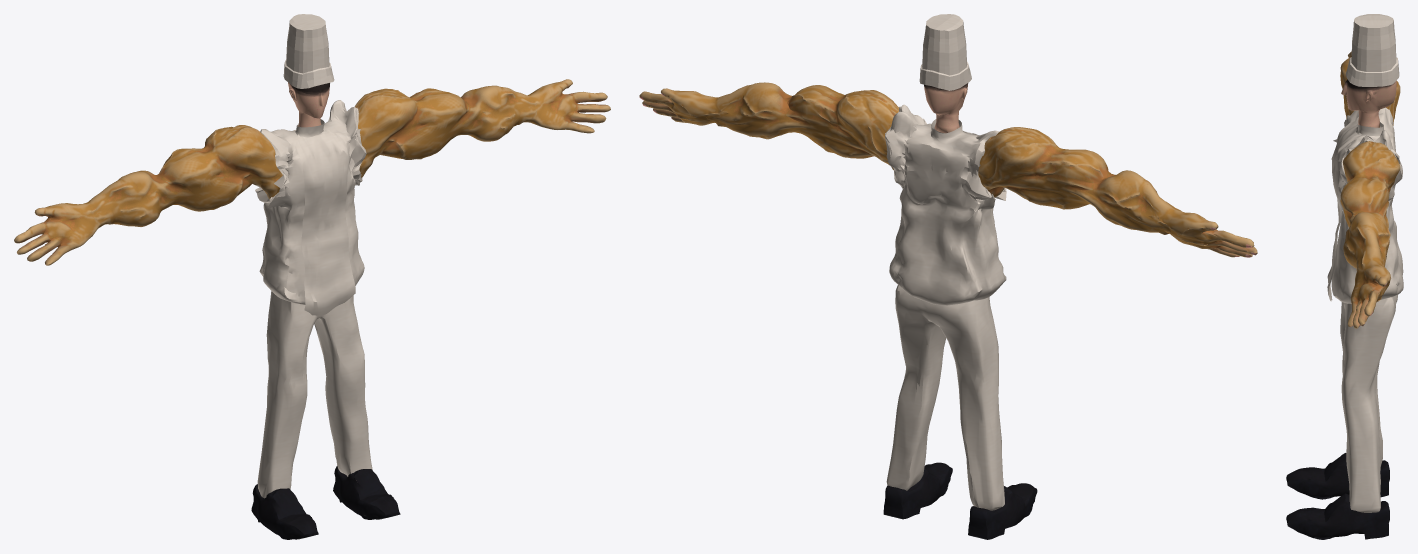
File: Sheff_model.fbx
3 views of the same model, side by side, from view 1: azimuth 30°, elevation 25°; view 2: azimuth 150°, elevation 25°; view 3: azimuth 270°, elevation 25° (orthographic). The views are drawn at different scales.
Visible parts, largest first — view 1: cloth_bottom.001, sheff_arm_low_poly.002, sheff_arm_low_poly.001, cloth_up.002, sheff_maekake.001, hat_sheff.001, shoose_R.001, shoose_L.001, head_mesh_nose.001; view 2: cloth_up.002, cloth_bottom.001, sheff_arm_low_poly.002, sheff_arm_low_poly.001, hat_sheff.001, shoose_R.001, shoose_L.001, head_mesh_nose.001; view 3: cloth_bottom.001, sheff_arm_low_poly.001, cloth_up.002, hat_sheff.001, shoose_L.001, shoose_R.001, head_mesh_nose.001, sheff_maekake.001, sheff_arm_low_poly.002.
Boxes of the visible parts, x1,y1,x2,y2 form: cloth_bottom.001: (257,291,372,498); sheff_arm_low_poly.002: (14,125,282,265); sheff_arm_low_poly.001: (355,79,610,177); cloth_up.002: (254,100,366,304); sheff_maekake.001: (295,129,355,315); hat_sheff.001: (283,14,334,88); shoose_R.001: (251,484,318,539); shoose_L.001: (333,466,400,519); head_mesh_nose.001: (288,82,329,127); cloth_up.002: (885,104,1006,305); cloth_bottom.001: (886,285,1004,510); sheff_arm_low_poly.002: (978,127,1257,257); sheff_arm_low_poly.001: (639,82,899,170); hat_sheff.001: (919,14,971,90); shoose_R.001: (968,483,1037,539); shoose_L.001: (883,462,952,519); head_mesh_nose.001: (924,83,968,133); cloth_bottom.001: (1340,294,1398,512); sheff_arm_low_poly.001: (1340,141,1400,328); cloth_up.002: (1331,107,1403,303); hat_sheff.001: (1346,14,1399,86); shoose_L.001: (1286,493,1389,539); shoose_R.001: (1286,453,1389,499); head_mesh_nose.001: (1341,79,1396,127); sheff_maekake.001: (1327,121,1363,301); sheff_arm_low_poly.002: (1340,51,1400,127).
Bounding box in the file's own units: 694 × 542 × 117.
Materials: 2 (2 with a texture image).
